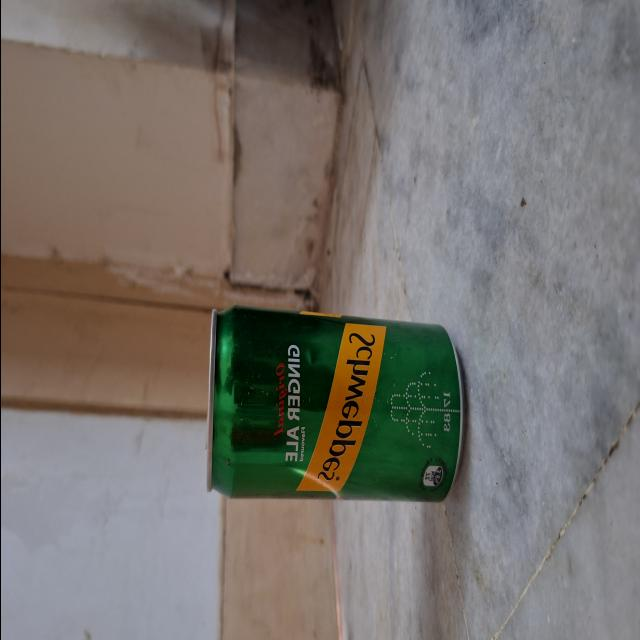Schweppes: (202, 286, 468, 524)
